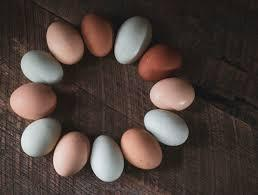egg: (118, 124, 165, 174), (145, 107, 194, 149), (112, 14, 152, 65), (8, 81, 56, 119), (89, 132, 124, 184), (17, 117, 60, 159), (138, 39, 182, 80), (44, 19, 84, 64), (51, 128, 88, 176), (80, 14, 119, 58), (20, 47, 64, 84), (149, 75, 195, 110)
